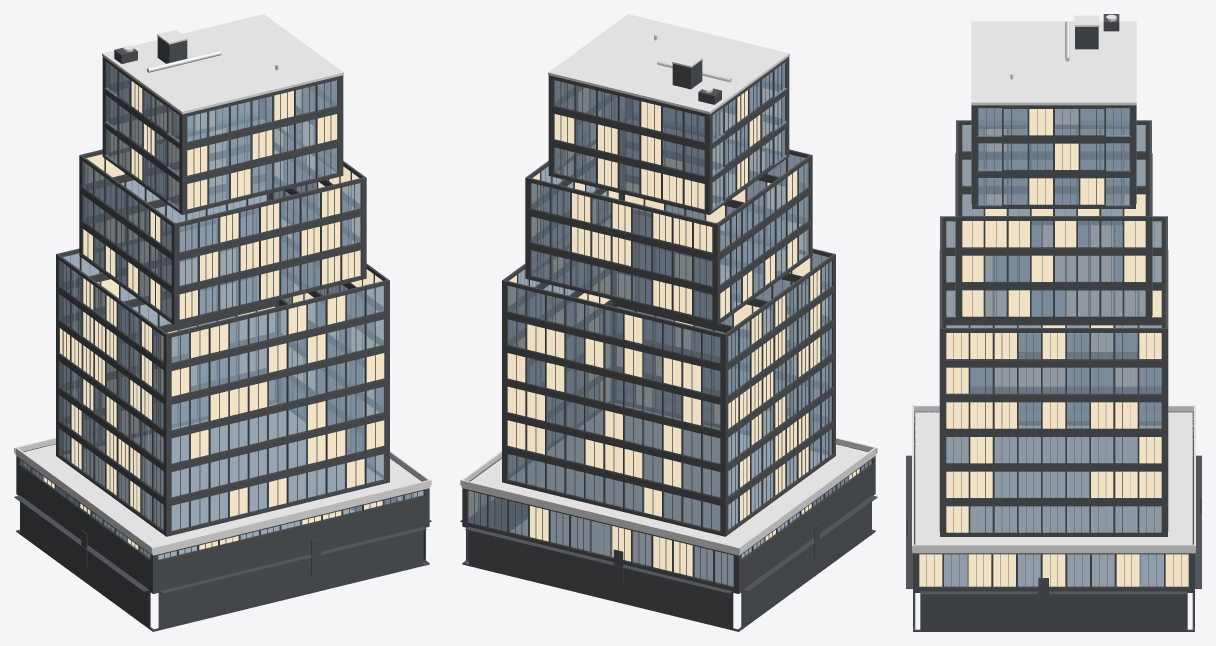
File: Offglass_office_tower_0000002.glb
The picture shows the model from 3 angles, left to right: view 1: azimuth 30°, elevation 25°; view 2: azimuth 150°, elevation 25°; view 3: azimuth 270°, elevation 25°; orthographic projection. The views are drawn at different scales.
Visible parts, largest first — view 1: Offglass_office_tower_0000002; view 2: Offglass_office_tower_0000002; view 3: Offglass_office_tower_0000002.
Part boxes in pixels (box(x1,y1,x2,y2)): Offglass_office_tower_0000002: box(14, 14, 431, 631); Offglass_office_tower_0000002: box(460, 14, 877, 631); Offglass_office_tower_0000002: box(906, 14, 1201, 631).
Bounding box in the file's own units: 31.78 × 53.59 × 27.41.
